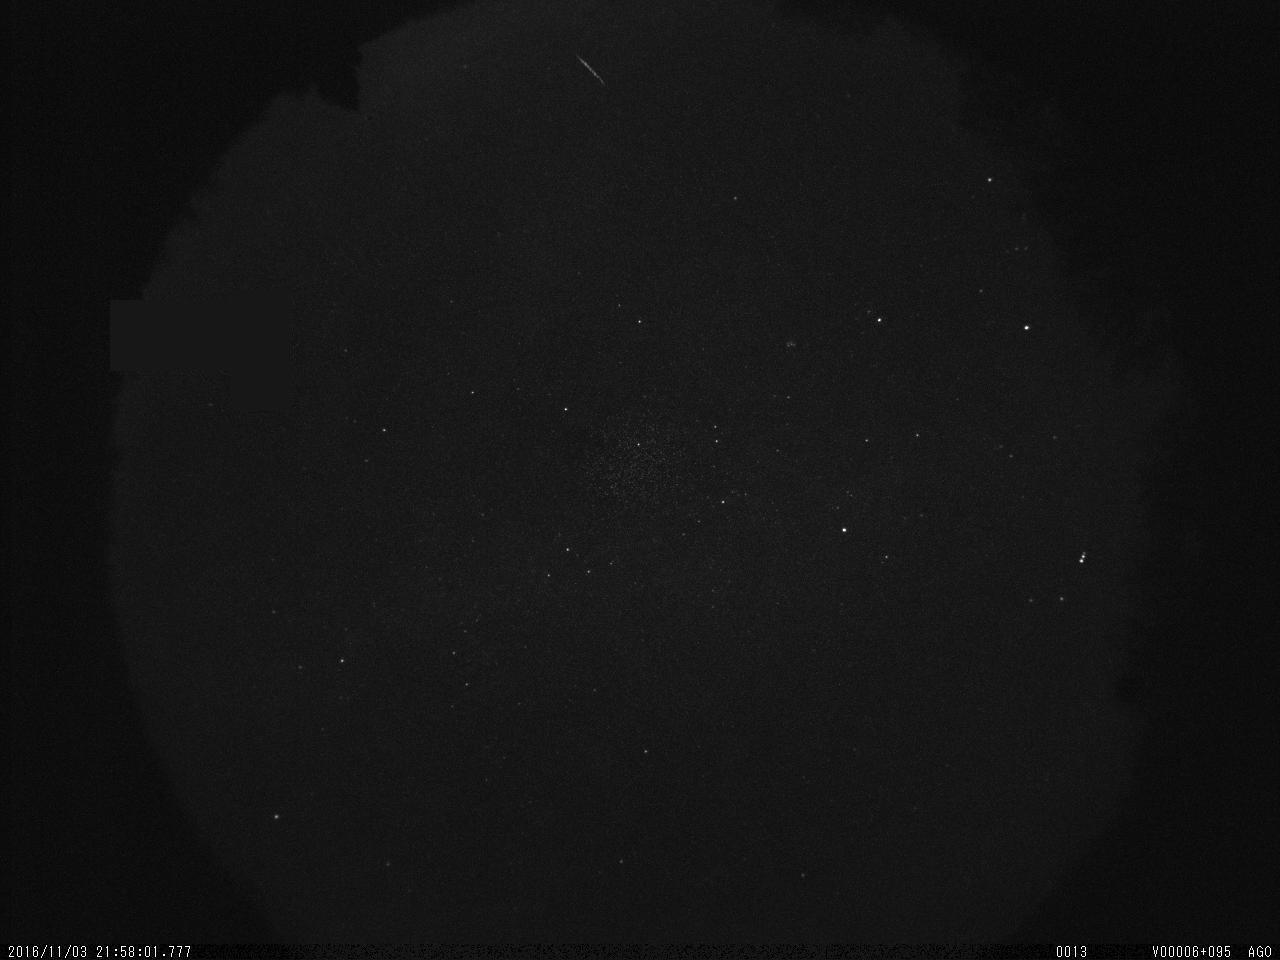meteor: (566, 48, 619, 96)
